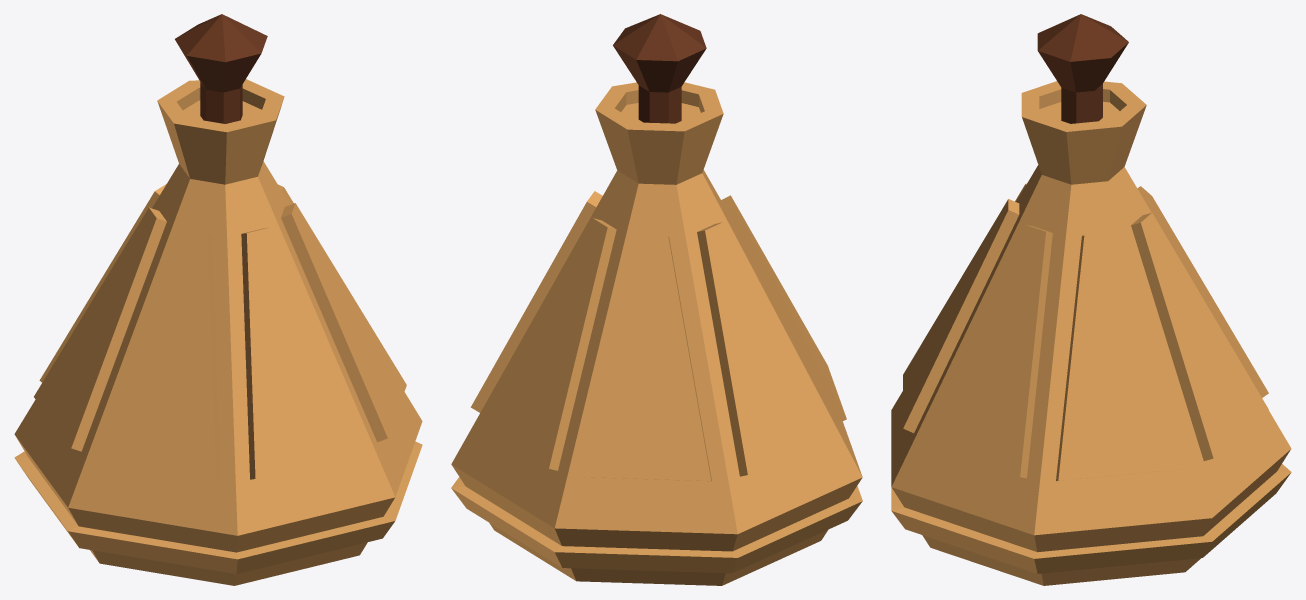
Rendered from Crypt_Potion6.glb.
3 renders of one model, left to right at view 1: azimuth 30°, elevation 25°; view 2: azimuth 150°, elevation 25°; view 3: azimuth 270°, elevation 25°, orthographic.
Visible parts, largest first — view 1: Potion6; view 2: Potion6; view 3: Potion6.
Part boxes in pixels (x1=…): Potion6: x1=14, y1=14, x2=422, y2=585; Potion6: x1=451, y1=14, x2=862, y2=585; Potion6: x1=891, y1=14, x2=1291, y2=585.
Size of the model in its own units: 0.7315 by 0.9886 by 0.7132.
